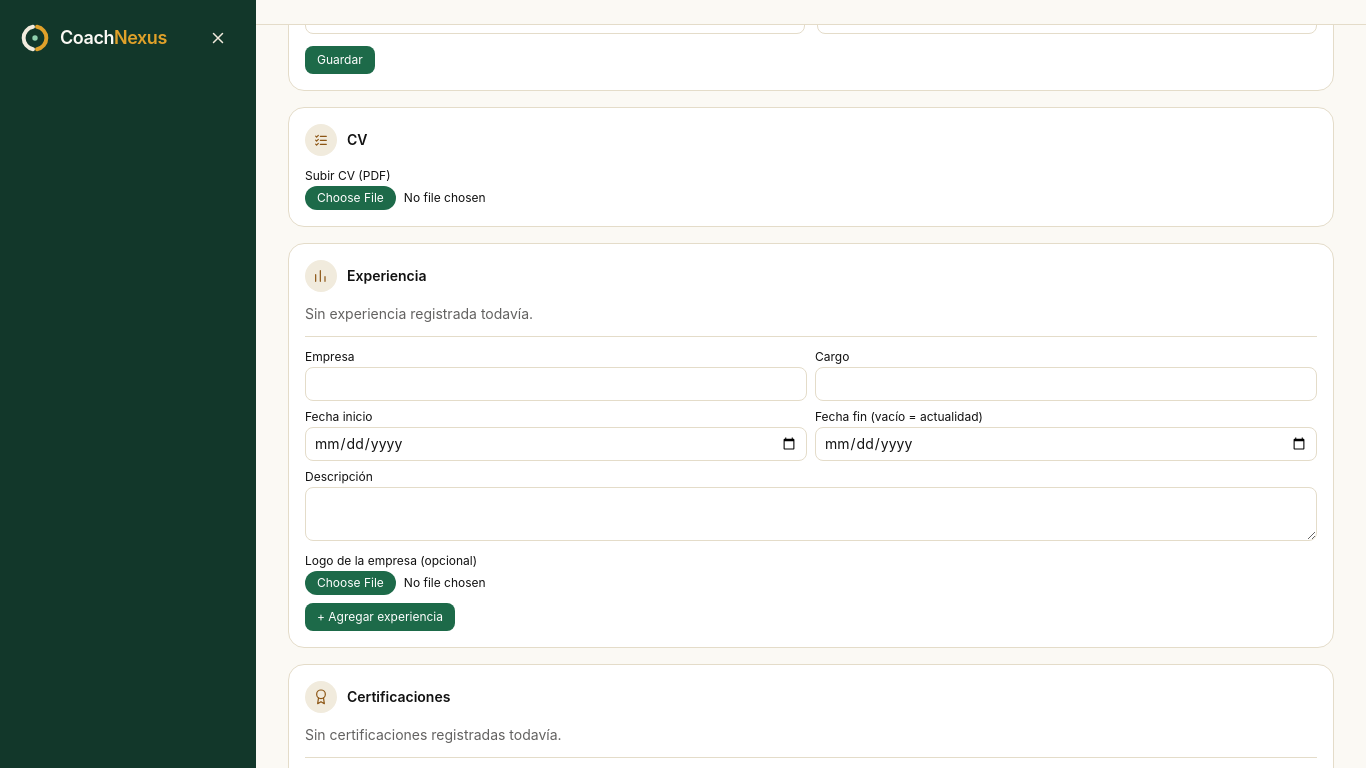
PerfilView › adds an experiencia with the entered fields
(page scrolled)
Type "Ferronor S.A." into the field labelled "Empresa".
click(556, 384); type("Ferronor S.A.")  # box [305,367,807,401]
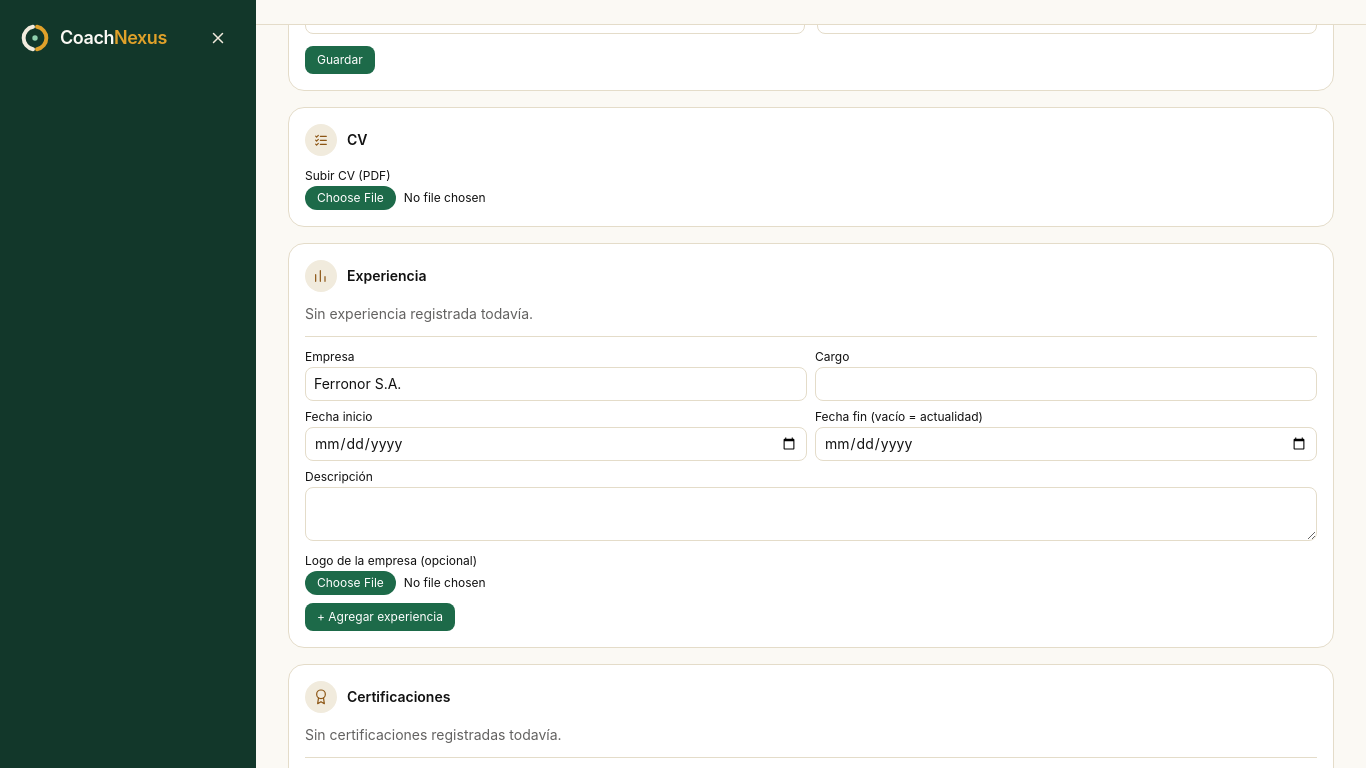
Type "2022-01-01" into the date field labelled "Fecha inicio".
click(556, 444); type("2022-01-01")  # box [305,427,807,461]
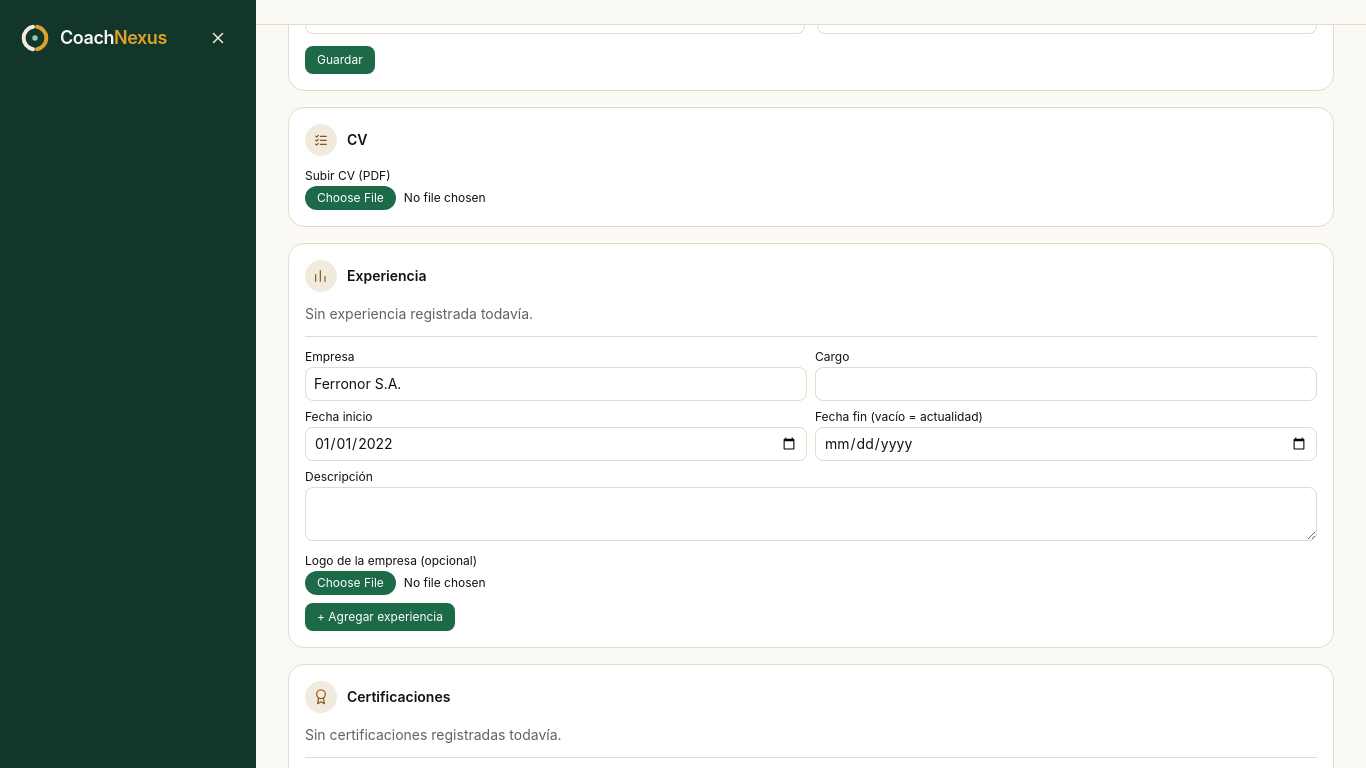
Submit the form that starts with "Empresa", box [305,336,1317,631]
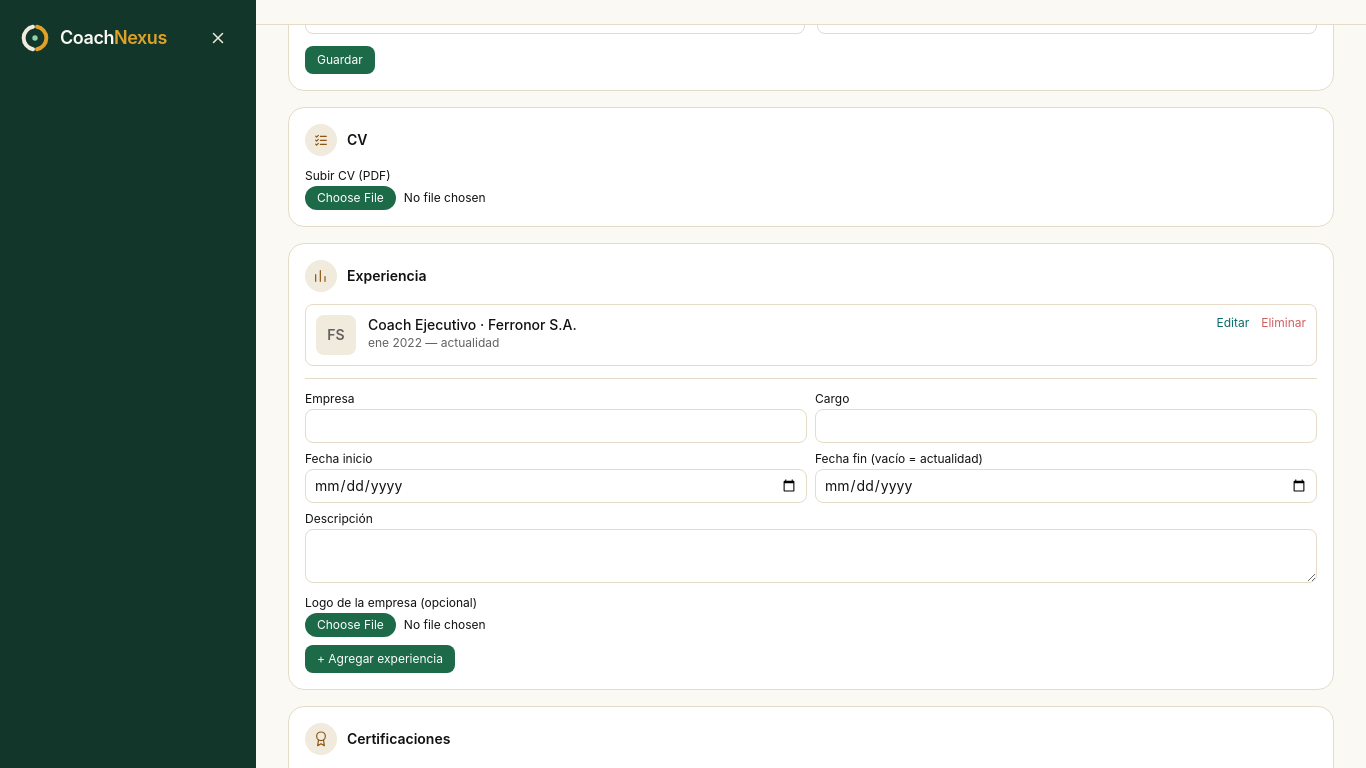
Check: the text "Ferronor S.A." is shown, box [368,316,577,333]
